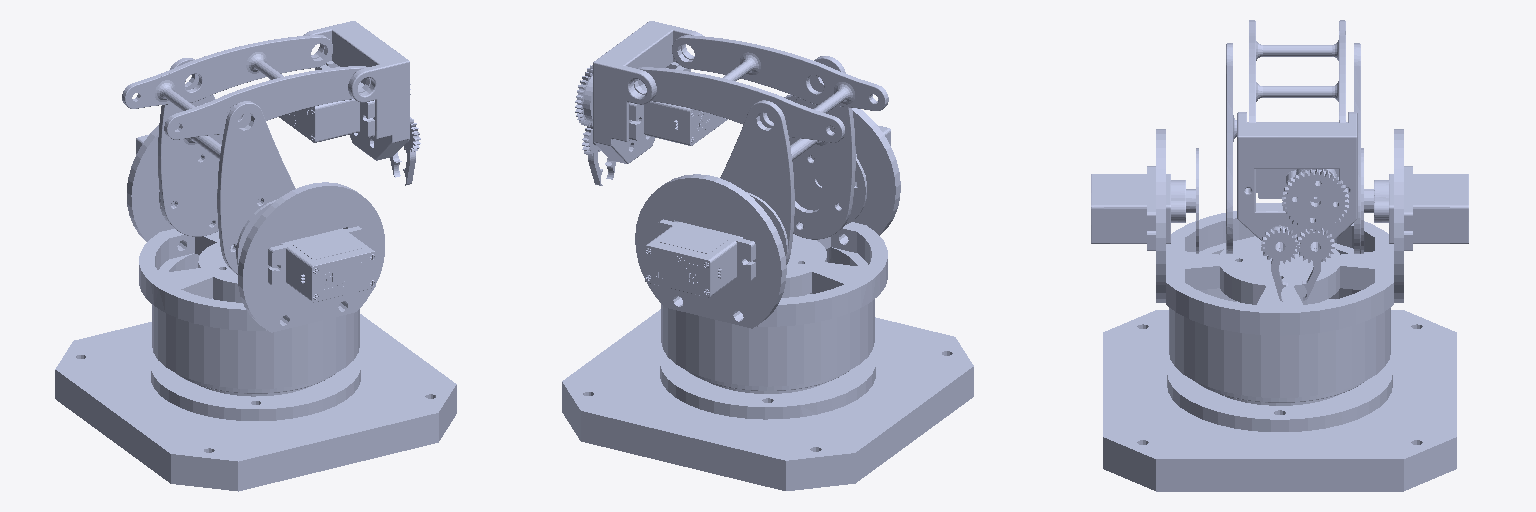
The robot description file, URDF, robot "robotic_arm_assembly":
<?xml version="1.0" encoding="utf-8"?>
<!-- This URDF was automatically created by SolidWorks to URDF Exporter! Originally created by [author] ([email redacted]) 
     Commit Version: 1.6.0-1-g15f4949  Build Version: 1.6.7594.29634
     For more information, please see http://wiki.ros.org/sw_urdf_exporter -->
<robot
  name="robotic_arm_assembly">
  <link
    name="base_link">
    <inertial>
      <origin
        xyz="-9.2558E-09 4.4033E-05 0.0091905"
        rpy="0 0 0" />
      <mass
        value="0.13522" />
      <inertia
        ixx="8.2221E-05"
        ixy="-7.4232E-12"
        ixz="-3.4508E-12"
        iyy="8.2338E-05"
        iyz="5.8286E-08"
        izz="0.00016141" />
    </inertial>
    <visual>
      <origin
        xyz="0 0 0"
        rpy="0 0 0" />
      <geometry>
        <mesh
          filename="package://robotic_arm_description/meshes/base_link.STL" />
      </geometry>
      <material
        name="">
        <color
          rgba="0.79216 0.81961 0.93333 1" />
      </material>
    </visual>
    <collision>
      <origin
        xyz="0 0 0"
        rpy="0 0 0" />
      <geometry>
        <mesh
          filename="package://robotic_arm_description/meshes/base_link.STL" />
      </geometry>
    </collision>
  </link>
  <link
    name="link_1">
    <inertial>
      <origin
        xyz="-0.00022776 5.6582E-11 0.013359"
        rpy="0 0 0" />
      <mass
        value="0.057308" />
      <inertia
        ixx="1.5706E-05"
        ixy="-4.2291E-15"
        ixz="2.5297E-15"
        iyy="1.8881E-05"
        iyz="-6.8636E-12"
        izz="2.6568E-05" />
    </inertial>
    <visual>
      <origin
        xyz="0 0 0"
        rpy="0 0 0" />
      <geometry>
        <mesh
          filename="package://robotic_arm_description/meshes/link_1.STL" />
      </geometry>
      <material
        name="">
        <color
          rgba="0.79216 0.81961 0.93333 1" />
      </material>
    </visual>
    <collision>
      <origin
        xyz="0 0 0"
        rpy="0 0 0" />
      <geometry>
        <mesh
          filename="package://robotic_arm_description/meshes/link_1.STL" />
      </geometry>
    </collision>
  </link>
  <joint
    name="joint_1"
    type="continuous">
    <origin
      xyz="0 0 0.036277"
      rpy="0 0 0" />
    <parent
      link="base_link" />
    <child
      link="link_1" />
    <axis
      xyz="0 0 -1" />
  </joint>
  <link
    name="link_2">
    <inertial>
      <origin
        xyz="-0.0029057 0.0047367 0.012674"
        rpy="0 0 0" />
      <mass
        value="0.0052426" />
      <inertia
        ixx="2.7089E-06"
        ixy="-1.3884E-08"
        ixz="1.7878E-07"
        iyy="1.3985E-06"
        iyz="6.0559E-08"
        izz="1.8842E-06" />
    </inertial>
    <visual>
      <origin
        xyz="0 0 0"
        rpy="0 0 0" />
      <geometry>
        <mesh
          filename="package://robotic_arm_description/meshes/link_2.STL" />
      </geometry>
      <material
        name="">
        <color
          rgba="0.79216 0.81961 0.93333 1" />
      </material>
    </visual>
    <collision>
      <origin
        xyz="0 0 0"
        rpy="0 0 0" />
      <geometry>
        <mesh
          filename="package://robotic_arm_description/meshes/link_2.STL" />
      </geometry>
    </collision>
  </link>
  <joint
    name="joint_2"
    type="continuous">
    <origin
      xyz="-0.00515 0 0.028573"
      rpy="0 0 0" />
    <parent
      link="link_1" />
    <child
      link="link_2" />
    <axis
      xyz="0 -1 0" />
  </joint>
  <link
    name="link_3">
    <inertial>
      <origin
        xyz="0.011787 0.0049253 0.00077678"
        rpy="0 0 0" />
      <mass
        value="0.0032899" />
      <inertia
        ixx="5.2071E-07"
        ixy="-5.0464E-12"
        ixz="-2.8603E-08"
        iyy="1.18E-06"
        iyz="-1.2414E-13"
        izz="1.634E-06" />
    </inertial>
    <visual>
      <origin
        xyz="0 0 0"
        rpy="0 0 0" />
      <geometry>
        <mesh
          filename="package://robotic_arm_description/meshes/link_3.STL" />
      </geometry>
      <material
        name="">
        <color
          rgba="0.79216 0.81961 0.93333 1" />
      </material>
    </visual>
    <collision>
      <origin
        xyz="0 0 0"
        rpy="0 0 0" />
      <geometry>
        <mesh
          filename="package://robotic_arm_description/meshes/link_3.STL" />
      </geometry>
    </collision>
  </link>
  <joint
    name="joint_3"
    type="continuous">
    <origin
      xyz="-0.0070261 0 0.039378"
      rpy="0 0 0" />
    <parent
      link="link_2" />
    <child
      link="link_3" />
    <axis
      xyz="0 1 0" />
  </joint>
  <link
    name="end_effector">
    <inertial>
      <origin
        xyz="0.0056397 0.0054334 -0.010942"
        rpy="0 0 0" />
      <mass
        value="0.015759" />
      <inertia
        ixx="2.1781E-06"
        ixy="-9.8765E-09"
        ixz="8.6878E-08"
        iyy="1.1152E-06"
        iyz="-5.5522E-10"
        izz="1.371E-06" />
    </inertial>
    <visual>
      <origin
        xyz="0 0 0"
        rpy="0 0 0" />
      <geometry>
        <mesh
          filename="package://robotic_arm_description/meshes/end_effector.STL" />
      </geometry>
      <material
        name="">
        <color
          rgba="0.79216 0.81961 0.93333 1" />
      </material>
    </visual>
    <collision>
      <origin
        xyz="0 0 0"
        rpy="0 0 0" />
      <geometry>
        <mesh
          filename="package://robotic_arm_description/meshes/end_effector.STL" />
      </geometry>
    </collision>
  </link>
  <joint
    name="joint_4"
    type="fixed">
    <origin
      xyz="0.044 0 1.134E-05"
      rpy="0 0 0" />
    <parent
      link="link_3" />
    <child
      link="end_effector" />
    <axis
      xyz="0 -1 0" />
  </joint>
</robot>

--- Facts derived from the render (not from the file) ---
3 views of the same robot in one strip: view 1: azimuth 30°, elevation 25°; view 2: azimuth 150°, elevation 25°; view 3: azimuth 270°, elevation 25° (orthographic).
Model robotic_arm_assembly with 5 links and 4 joints (3 continuous, 1 fixed), rooted at base_link, posed all joints at 0.
Links seen in each view (by area): view 1: link_1, base_link, link_2, link_3, end_effector; view 2: link_1, base_link, link_3, end_effector, link_2; view 3: link_1, base_link, end_effector, link_3, link_2.
Link boxes in pixels (x1,y1,x2,y2): link_1: (127, 105, 384, 388); base_link: (55, 298, 456, 491); link_2: (158, 58, 295, 274); link_3: (122, 35, 370, 139); end_effector: (279, 21, 420, 185); link_1: (635, 95, 900, 386); base_link: (562, 294, 973, 490); link_3: (634, 35, 888, 142); end_effector: (575, 21, 727, 185); link_2: (720, 56, 855, 264); link_1: (1091, 129, 1468, 397); base_link: (1103, 299, 1456, 491); end_effector: (1237, 112, 1357, 301); link_3: (1249, 20, 1345, 122); link_2: (1226, 43, 1360, 253).
Bounding box of the posed robot: 0.1045 × 0.107 × 0.1118 m (x, y, z).
Meshes: 5 distinct files referenced, 5 mesh visuals loaded (5 binary STL).